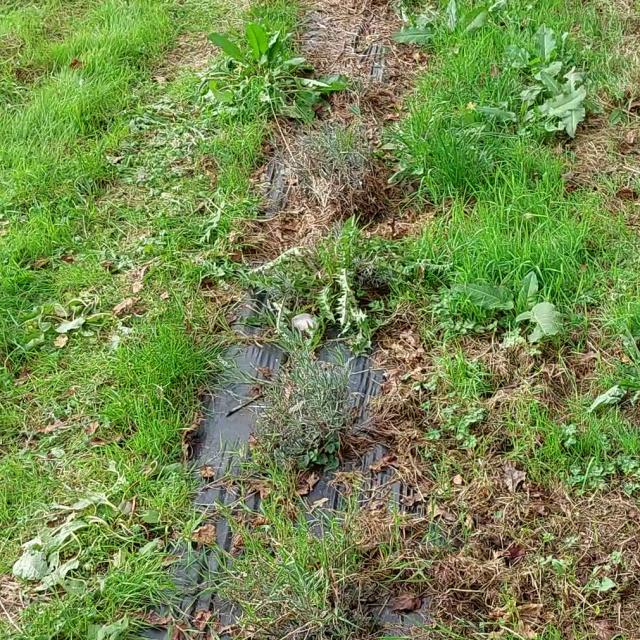organic waste: (434, 232, 571, 394), (200, 0, 336, 145), (29, 484, 126, 590), (510, 58, 603, 140), (28, 289, 135, 357), (501, 15, 578, 96)
